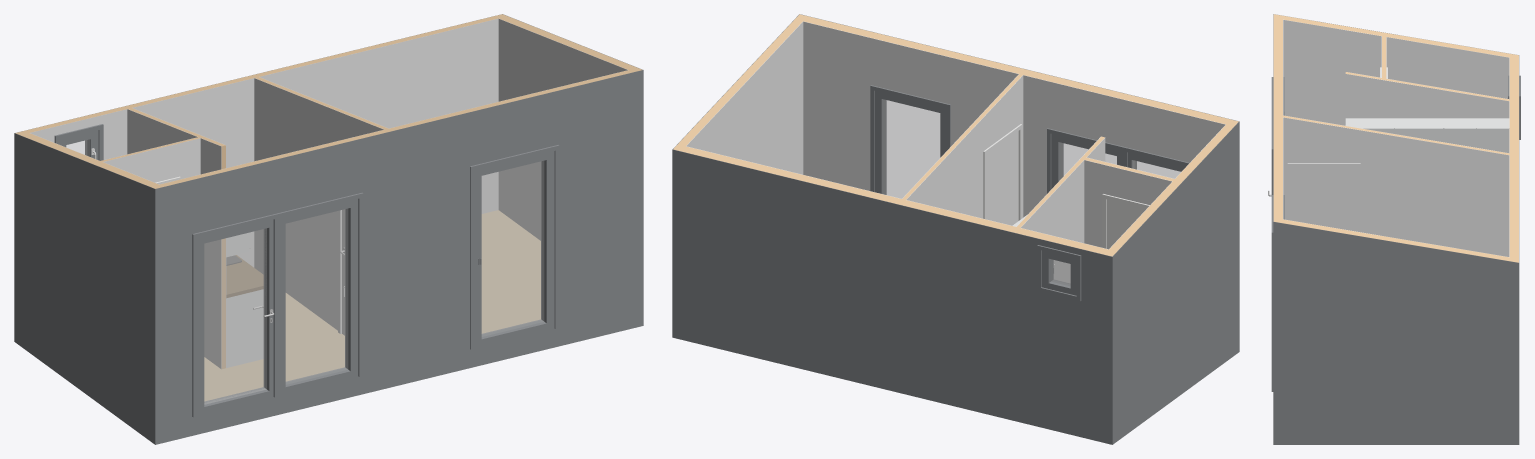
The model's file is Ireland_office_(3,0x6,0m)_R00.fbx.
3 renders of one model, left to right at view 1: azimuth 30°, elevation 25°; view 2: azimuth 150°, elevation 25°; view 3: azimuth 270°, elevation 25°, orthographic. The views are drawn at different scales.
Parts seen in each view (by area): view 1: IfcWall/Part:2319977, IfcWall/Part:2368366, IfcWall/Part:2397154, IfcWindow/Langai (Akrusta):1000x2100x120 (kairinis):2565735, IfcWindow/Langai (Akrusta):1000x2100x120 (dešininis):2409843, IfcDoor/Exterior door:1000x2100x120 (kairinės):2439432, IfcSlab/Part:2319985, IfcWall/Part:2569233, IfcWall/Part:2568958, IfcWall/Part:2569020, IfcFurnishingElement/Virtuvinė spintelė (pastatoma):600mm (s, IfcWall/Part:2569024 (+9 smaller); view 2: IfcWall/Part:2397155, IfcWall/Part:2319976, IfcWall/Part:2368366, IfcWall/Part:2568958, IfcWindow/Langai (Akrusta):1000x2100x120 (kairinis):2565735, IfcWall/Part:2569233, IfcDoor/Interior door:800x2100 x 120 (kairinės):2570302, IfcWall/Part:2569023, IfcWall/Part:2569827, IfcWall/Part:2397156, IfcWall/Part:2319978, IfcWindow/Langai (Akrusta):1000x2100x120 (dešininis):2409843 (+7 smaller); view 3: IfcWall/Part:2568959, IfcWall/Part:2569234, IfcWall/Part:2368365, IfcWall/Part:2569021, IfcDoor/Interior door:800x2100 x 120 (kairinės):2570302, IfcWall/Part:2319978, IfcWall/Part:2397156, IfcWall/Part:2368367, IfcWall/Part:2568960, IfcFurnishingElement/Spintelių durelės (neskaičiuoti):40.001, IfcFurnishingElement/Virtuvinė spintelė (pakabinama):800mm:2, IfcWindow/Langai (Akrusta):1000x2100x120 (kairinis):2565735 (+8 smaller).
Boxes of the visible parts, x1,y1,x2,y2 form: IfcWall/Part:2319977: (155, 70, 643, 444); IfcWall/Part:2368366: (14, 133, 154, 444); IfcWall/Part:2397154: (30, 18, 498, 267); IfcWindow/Langai (Akrusta):1000x2100x120 (kairinis):2565735: (470, 145, 559, 349); IfcWindow/Langai (Akrusta):1000x2100x120 (dešininis):2409843: (273, 192, 363, 397); IfcDoor/Exterior door:1000x2100x120 (kairinės):2439432: (192, 213, 281, 417); IfcSlab/Part:2319985: (204, 210, 540, 401); IfcWall/Part:2569233: (254, 78, 383, 330); IfcWall/Part:2568958: (498, 18, 627, 240); IfcWall/Part:2569020: (200, 138, 221, 368); IfcFurnishingElement/Virtuvinė spintelė (pastatoma):600mm (s: (226, 289, 263, 367); IfcWall/Part:2569024: (103, 138, 200, 182); IfcWall/Part:2397155: (672, 149, 1112, 444); IfcWall/Part:2319976: (803, 21, 1225, 217); IfcWall/Part:2368366: (1112, 122, 1239, 444); IfcWall/Part:2568958: (686, 22, 803, 174); IfcWindow/Langai (Akrusta):1000x2100x120 (kairinis):2565735: (870, 85, 950, 198); IfcWall/Part:2569233: (906, 75, 1023, 218); IfcDoor/Interior door:800x2100 x 120 (kairinės):2570302: (983, 124, 1022, 225); IfcWall/Part:2569023: (1084, 160, 1171, 247); IfcWall/Part:2569827: (1020, 160, 1084, 283); IfcWall/Part:2397156: (673, 144, 1116, 256); IfcWall/Part:2319978: (795, 14, 1238, 126); IfcWindow/Langai (Akrusta):1000x2100x120 (dešininis):2409843: (1047, 128, 1127, 193); IfcWall/Part:2568959: (1273, 222, 1518, 444); IfcWall/Part:2569234: (1283, 117, 1509, 256); IfcWall/Part:2368365: (1283, 19, 1509, 125); IfcWall/Part:2569021: (1345, 74, 1509, 118); IfcDoor/Interior door:800x2100 x 120 (kairinės):2570302: (1287, 163, 1360, 232); IfcWall/Part:2319978: (1273, 14, 1282, 223); IfcWall/Part:2397156: (1509, 54, 1518, 262); IfcWall/Part:2368367: (1283, 16, 1509, 57); IfcWall/Part:2568960: (1283, 219, 1509, 260); IfcFurnishingElement/Spintelių durelės (neskaičiuoti):40.001: (1477, 128, 1508, 152); IfcFurnishingElement/Virtuvinė spintelė (pakabinama):800mm:2: (1444, 118, 1509, 152); IfcWindow/Langai (Akrusta):1000x2100x120 (kairinis):2565735: (1271, 195, 1284, 391).
Size of the model in its own units: 600 by 300 by 309.
